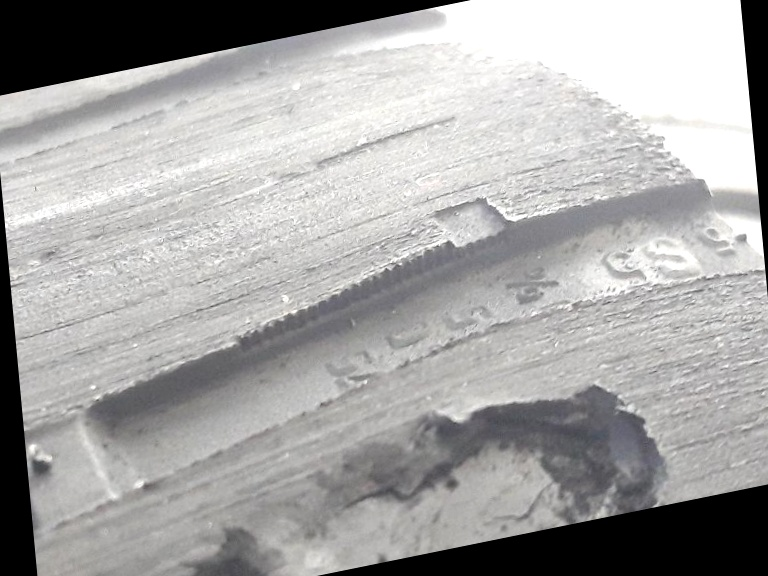temoin:0: (399, 184, 525, 298)
